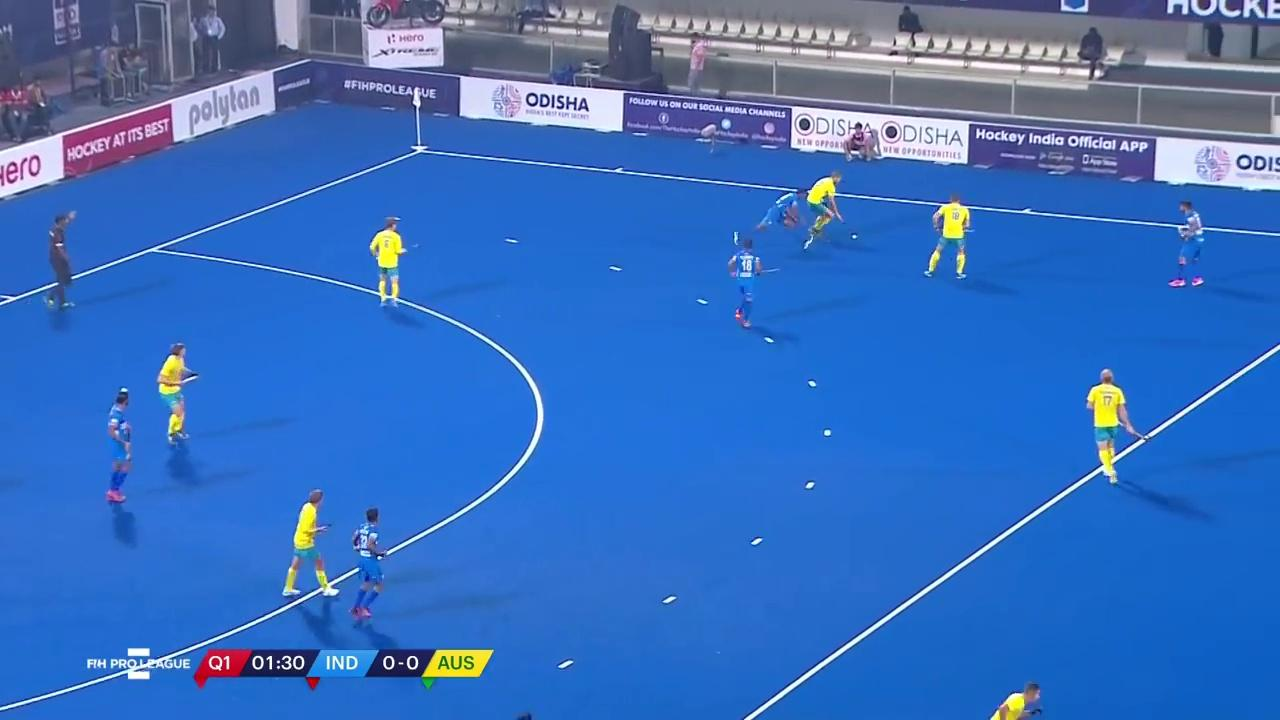ball: (847, 230, 863, 242)
